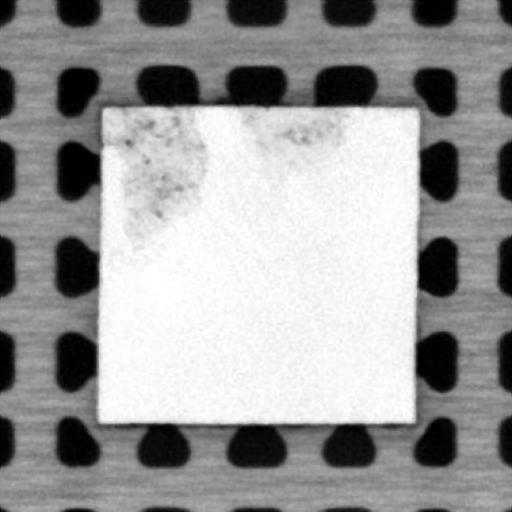DIE_INK: (103, 106, 207, 248), (236, 106, 358, 182)
